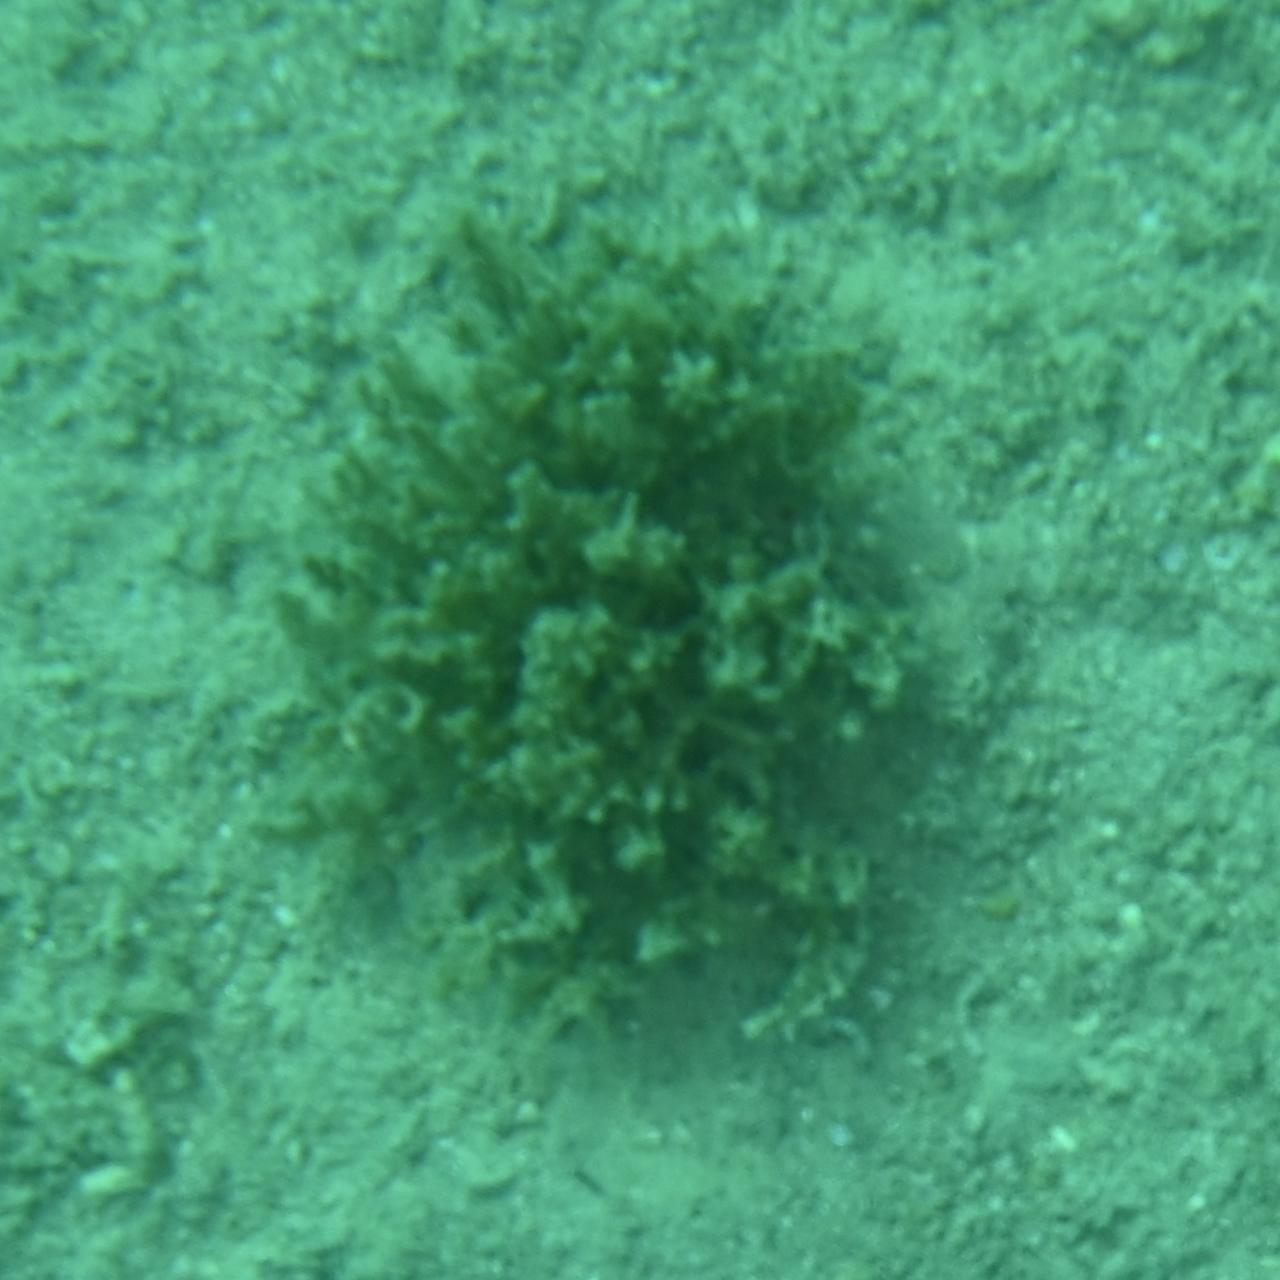Phaeophyceae -cfr Cystoseira-: (279, 208, 1001, 1072)
